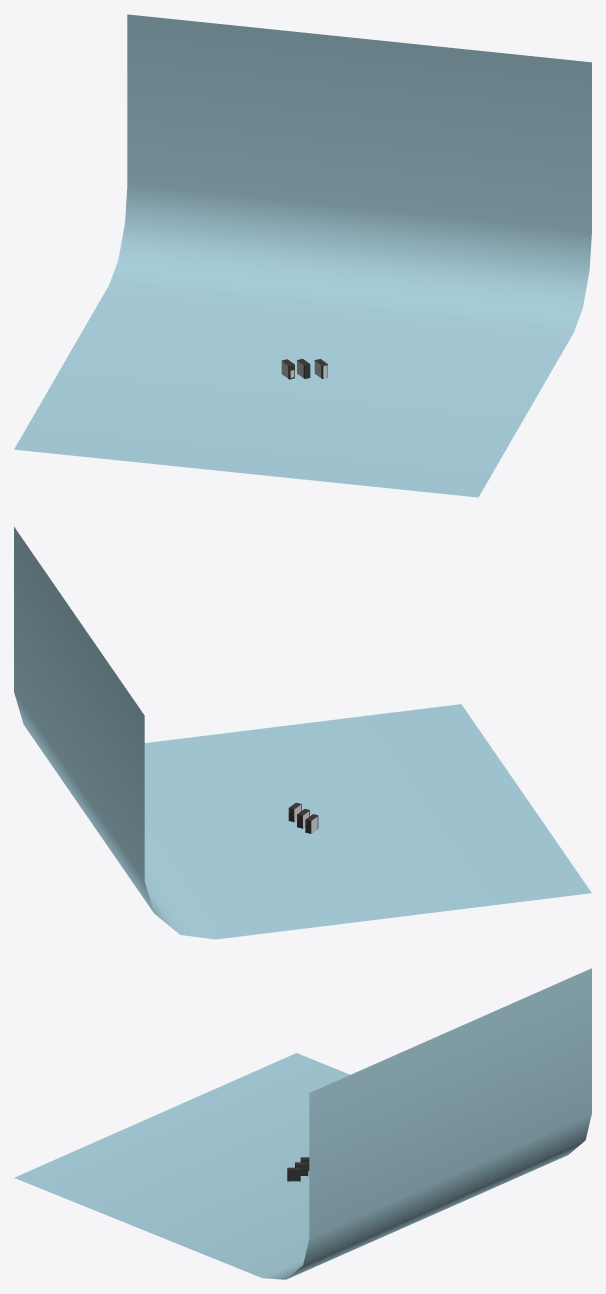
File: uploads_files_2436950_LowPoly+PC.fbx
3 renders of one model, top to bottom at view 1: azimuth 30°, elevation 25°; view 2: azimuth 150°, elevation 25°; view 3: azimuth 270°, elevation 25°, orthographic. The views are drawn at different scales.
Visible parts, largest first — view 1: Plane; view 2: Plane; view 3: Plane.
Boxes of the visible parts, left/top/right/bottom form: Plane: left=14, top=14, right=591, bottom=497; Plane: left=14, top=527, right=591, bottom=939; Plane: left=14, top=968, right=591, bottom=1279.
Bounding box in the file's own units: 2082 × 812 × 2082.
